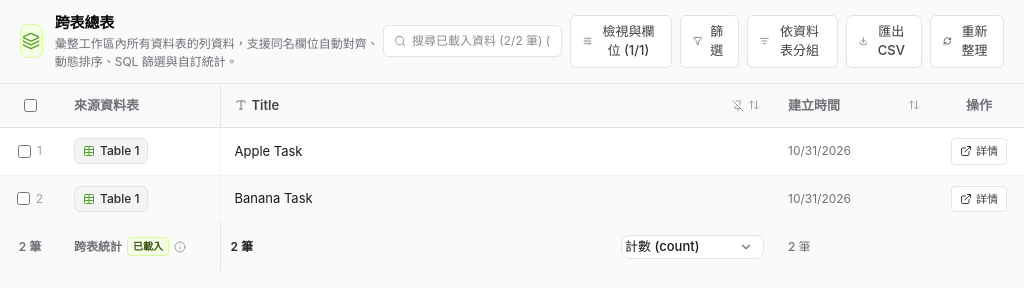
MasterGridView UI Component › allows clearing search query with one-click clear button
Expected: the text "Apple Task" is shown, [234,142,302,161]
Expected: the text "Banana Task" is shown, [234,189,313,208]
Type "Apple" into the field with placeholder "搜尋已載入資料 (2/2 筆) (按 / 搜尋)..." at (482, 41), box [412,32,551,50]
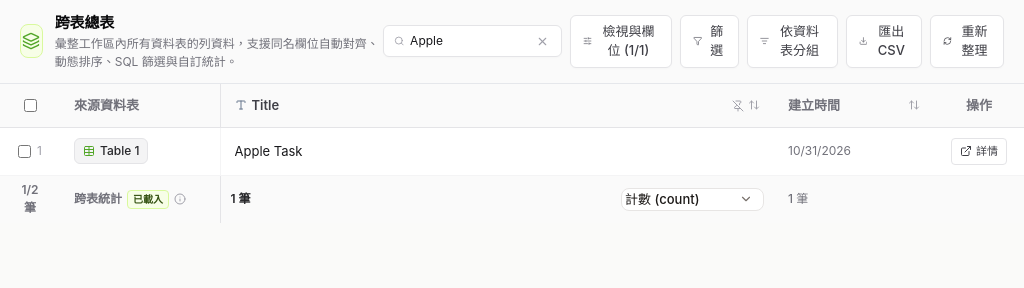
Expected: the text "Apple Task" is shown, [234,142,302,161]
Now the text "Banana Task" is gone
Click clear button
Click the button with test id "clear-search-btn" at (543, 41), box [534,33,551,50]
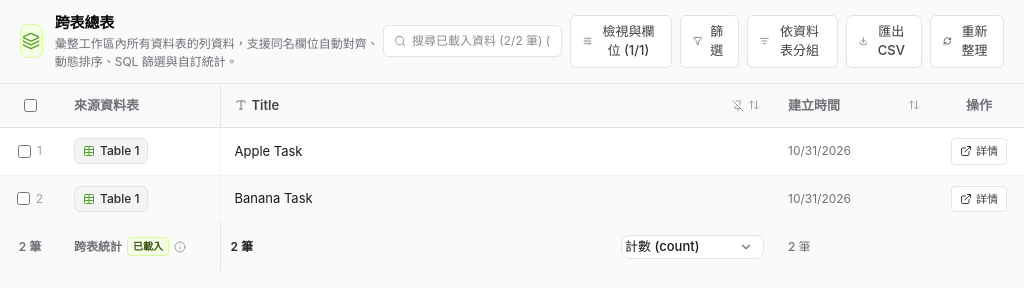
Expected: the text "Apple Task" is shown, [234,142,302,161]
Now the field with placeholder "搜尋已載入資料 (2/2 筆) (按 / 搜尋)..." is empty, box [412,32,551,50]
Now the text "Banana Task" is shown, box [234,189,313,208]
